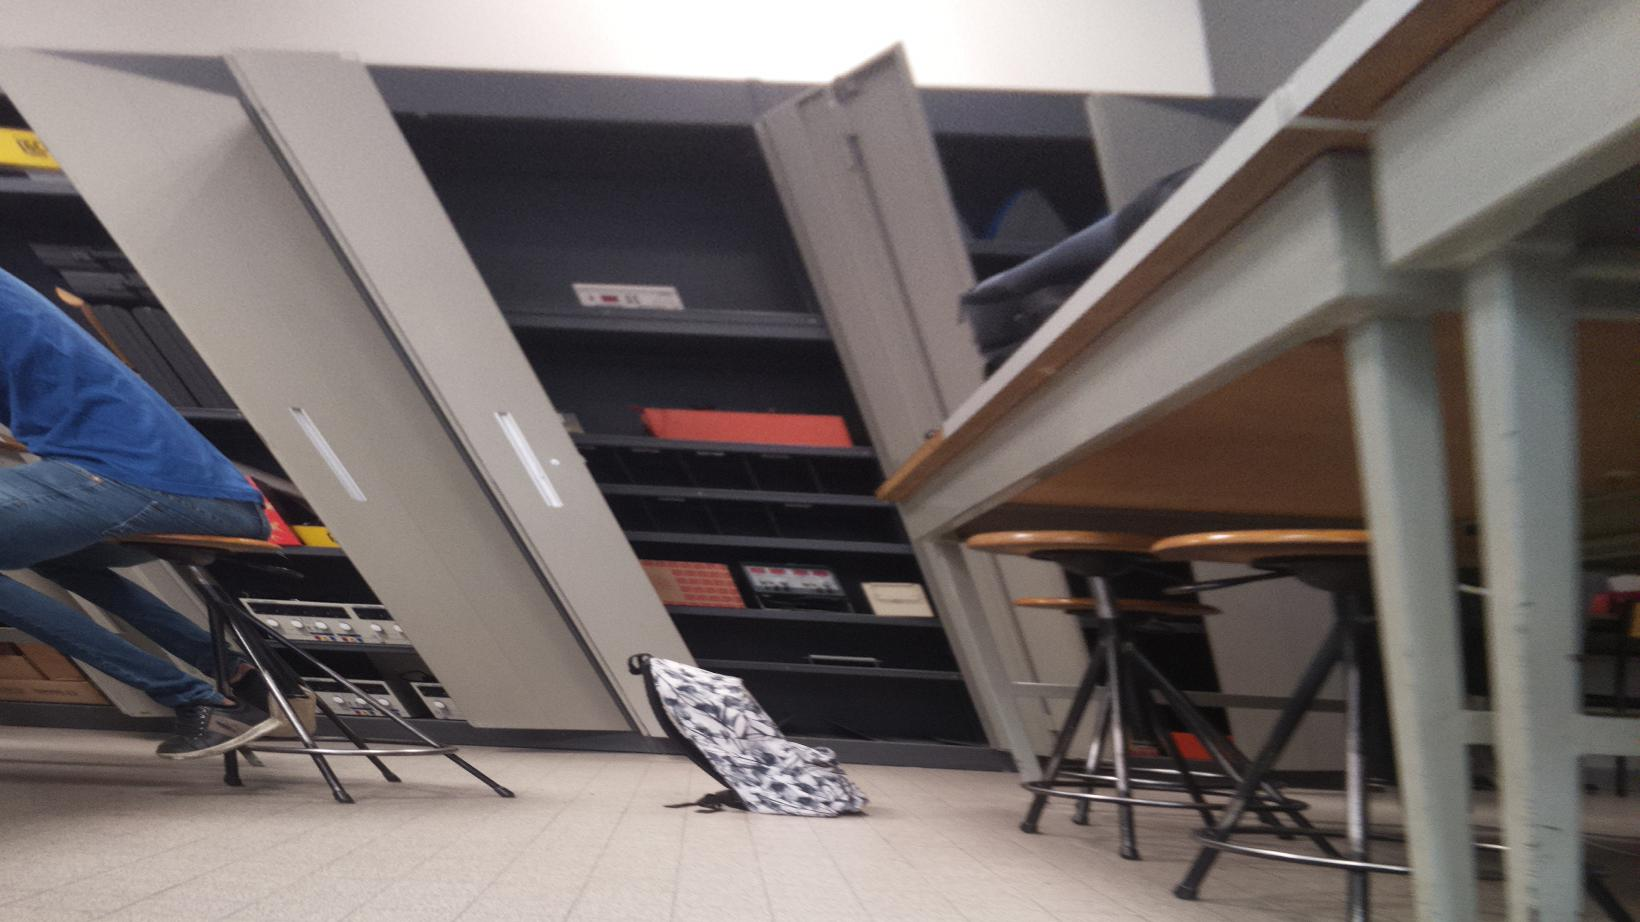big: (631, 650, 872, 820)
